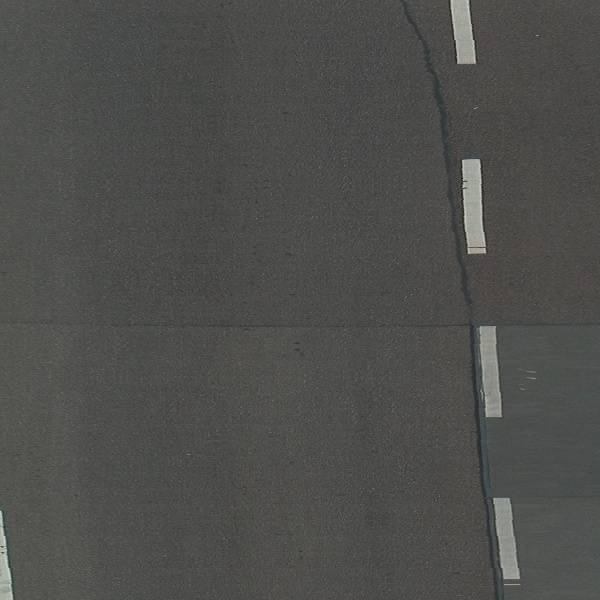road_damage: (401, 1, 476, 318), (37, 319, 484, 335)
